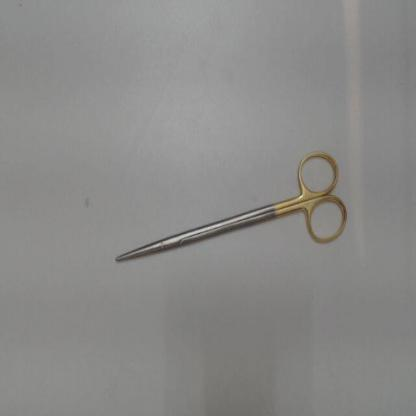7 Metzenbaum Scissors: (111, 144, 351, 268)
